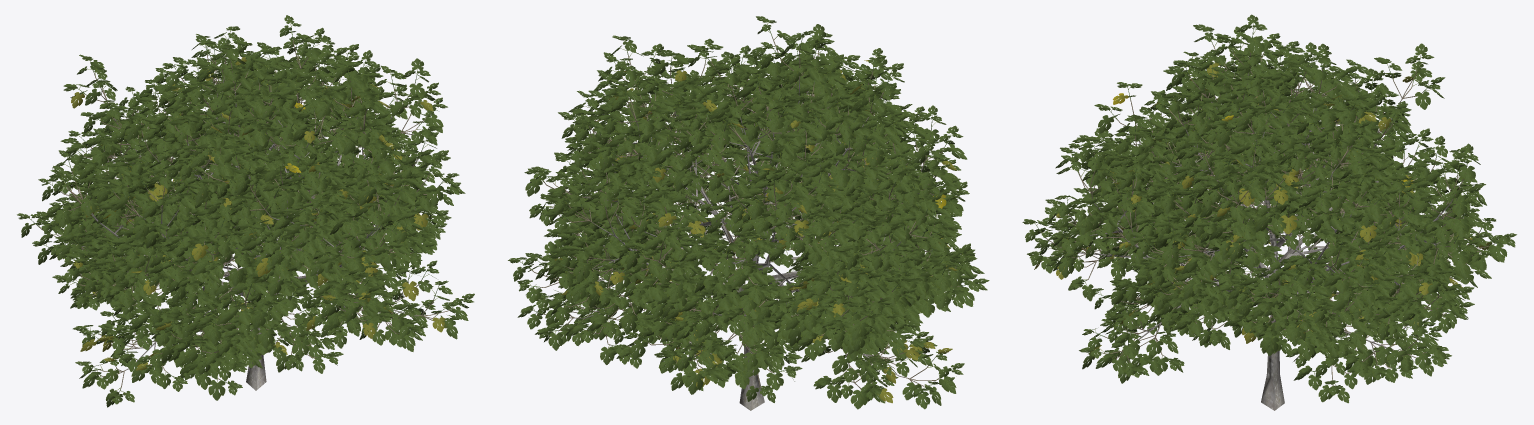
The model's file is Ficus carica HD_Standard no fruit mat 75_LOD4.fbx.
3 views of the same model, side by side, from view 1: azimuth 30°, elevation 25°; view 2: azimuth 150°, elevation 25°; view 3: azimuth 270°, elevation 25° (orthographic). The views are drawn at different scales.
Parts seen in each view (by area): view 1: Ficus_carica_HD; view 2: Ficus_carica_HD; view 3: Ficus_carica_HD.
Part boxes in pixels (left/top/right/bottom): Ficus_carica_HD: left=17, top=15, right=474, bottom=407; Ficus_carica_HD: left=508, top=16, right=989, bottom=410; Ficus_carica_HD: left=1022, top=14, right=1516, bottom=410.
Bounding box in the file's own units: 4.92 × 4.19 × 5.19.
Materials: 10 (10 with a texture image).
